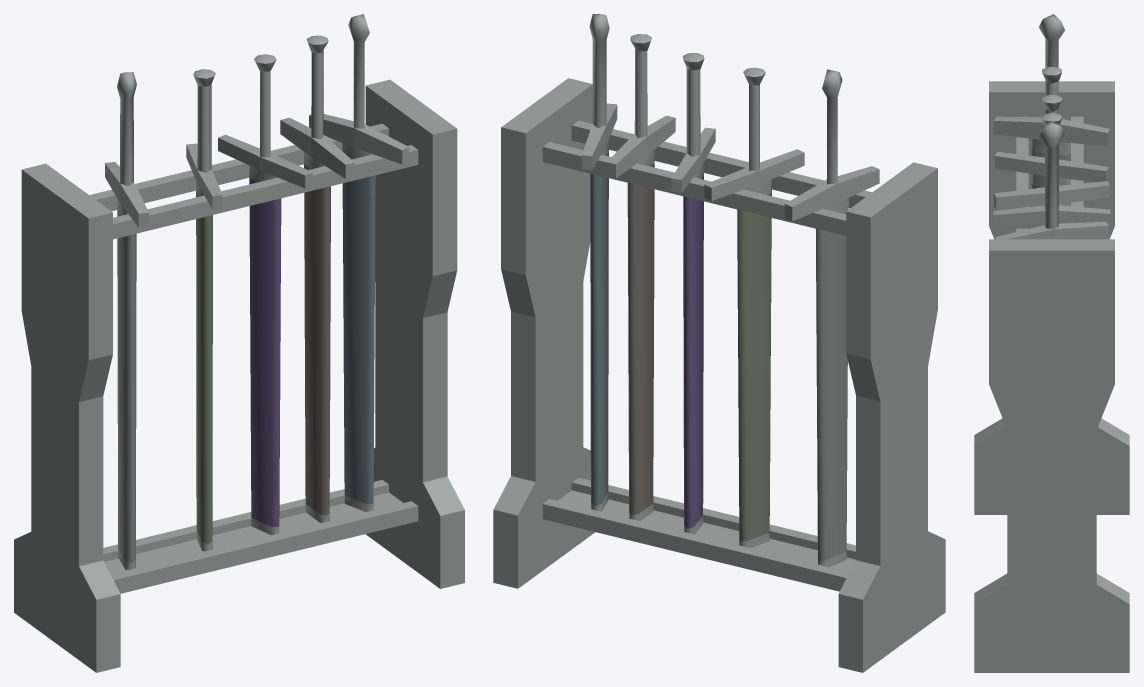
3 renders of one model, left to right at view 1: azimuth 30°, elevation 25°; view 2: azimuth 150°, elevation 25°; view 3: azimuth 270°, elevation 25°, orthographic. The views are drawn at different scales.
Visible parts, largest first — view 1: G:\FFXIV-MapTools\exports\r1f1\bg\ffxiv\roc_r1\fld\r1f1\bgpa (×2); view 2: G:\FFXIV-MapTools\exports\r1f1\bg\ffxiv\roc_r1\fld\r1f1\bgpa (×2); view 3: G:\FFXIV-MapTools\exports\r1f1\bg\ffxiv\roc_r1\fld\r1f1\bgpa (×2).
Part boxes in pixels (x1,y1,x2,y2): G:\FFXIV-MapTools\exports\r1f1\bg\ffxiv\roc_r1\fld\r1f1\bgpa (×2): (14,14,464,672); G:\FFXIV-MapTools\exports\r1f1\bg\ffxiv\roc_r1\fld\r1f1\bgpa (×2): (493,14,945,672); G:\FFXIV-MapTools\exports\r1f1\bg\ffxiv\roc_r1\fld\r1f1\bgpa (×2): (974,14,1129,672).
Bounding box in the file's own units: 1.17 × 1.68 × 0.4531.
